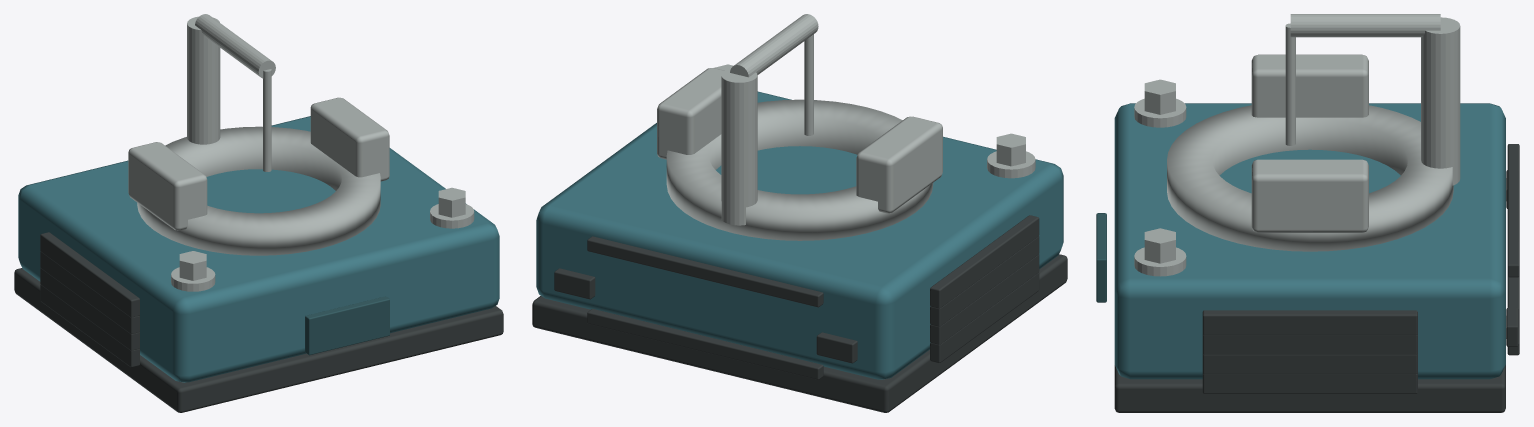
Rendered from optician-and-optical-lens-workshop-optician-and-optica-170f3576__31692.glb.
3 renders of one model, left to right at view 1: azimuth 30°, elevation 25°; view 2: azimuth 150°, elevation 25°; view 3: azimuth 270°, elevation 25°, orthographic. The views are drawn at different scales.
Visible parts, largest first — view 1: optician-and-optical-lens-workshop-lens-tracing-machine; view 2: optician-and-optical-lens-workshop-lens-tracing-machine; view 3: optician-and-optical-lens-workshop-lens-tracing-machine.
Boxes of the visible parts, bbox=[...] form: optician-and-optical-lens-workshop-lens-tracing-machine: bbox=[14, 14, 503, 412]; optician-and-optical-lens-workshop-lens-tracing-machine: bbox=[532, 14, 1067, 412]; optician-and-optical-lens-workshop-lens-tracing-machine: bbox=[1096, 14, 1519, 412].
Bounding box in the file's own units: 0.362 × 0.259 × 0.3245.
